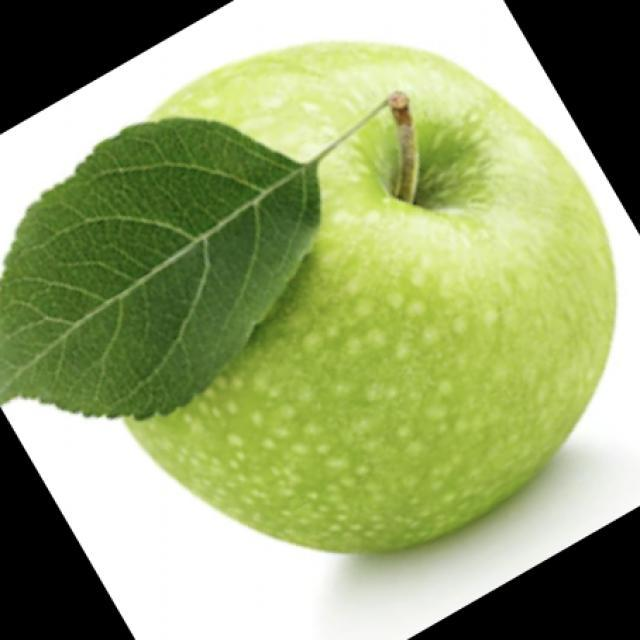Fresh Apple: (124, 55, 588, 515)
